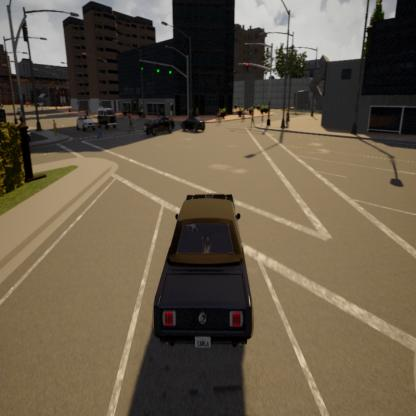Cars: (142, 168, 258, 347), (144, 111, 174, 137), (181, 111, 206, 136), (96, 106, 115, 129), (75, 115, 95, 132)
Pedestrian: (126, 109, 134, 131), (96, 119, 103, 141), (249, 107, 256, 126), (286, 108, 291, 131)
